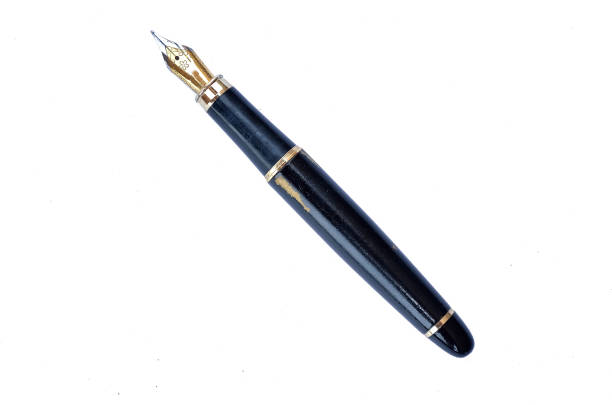pen: (142, 24, 483, 369)
